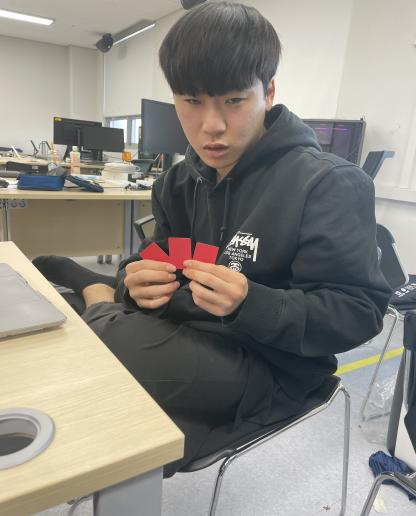ThreeHwatoo: (132, 222, 225, 279)
